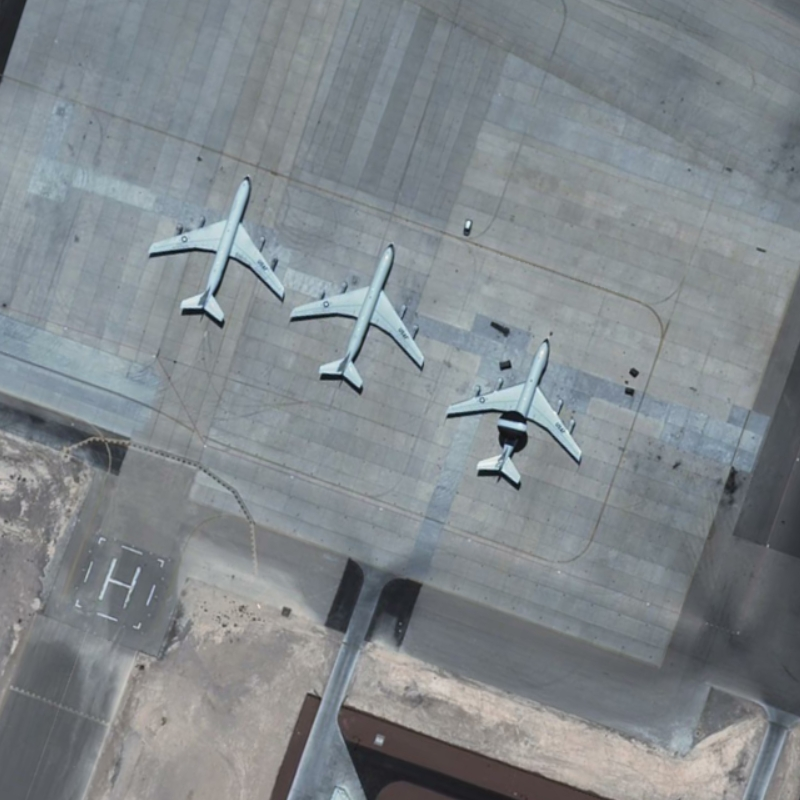A11: (138, 166, 287, 332), (283, 232, 429, 397)
A7: (440, 323, 587, 489)
